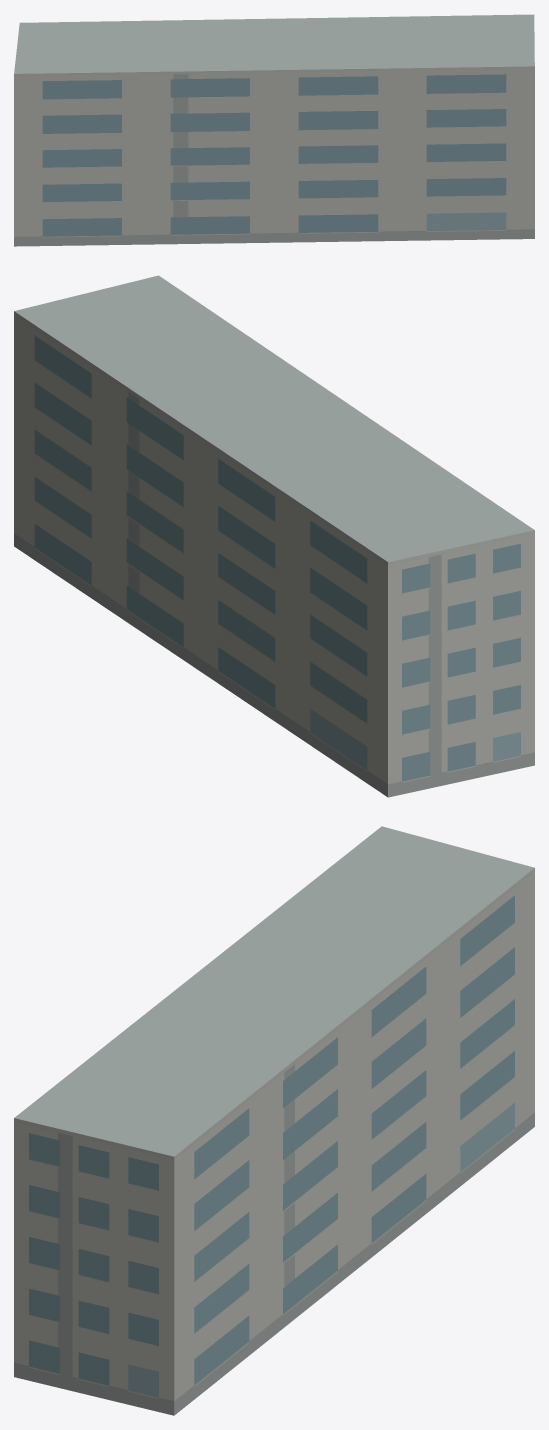
File: survey-upis-32835744.glb
The picture shows the model from 3 angles, top to bottom: view 1: azimuth 30°, elevation 25°; view 2: azimuth 150°, elevation 25°; view 3: azimuth 270°, elevation 25°; orthographic projection. The views are drawn at different scales.
Parts seen in each view (by area): view 1: survey-upis-32835744.tmp; view 2: survey-upis-32835744.tmp; view 3: survey-upis-32835744.tmp.
Part boxes in pixels (x1=…): survey-upis-32835744.tmp: x1=14, y1=14, x2=534, y2=246; survey-upis-32835744.tmp: x1=14, y1=275, x2=534, y2=797; survey-upis-32835744.tmp: x1=14, y1=826, x2=534, y2=1415.
Bounding box in the file's own units: 41.73 × 15.25 × 27.8.
